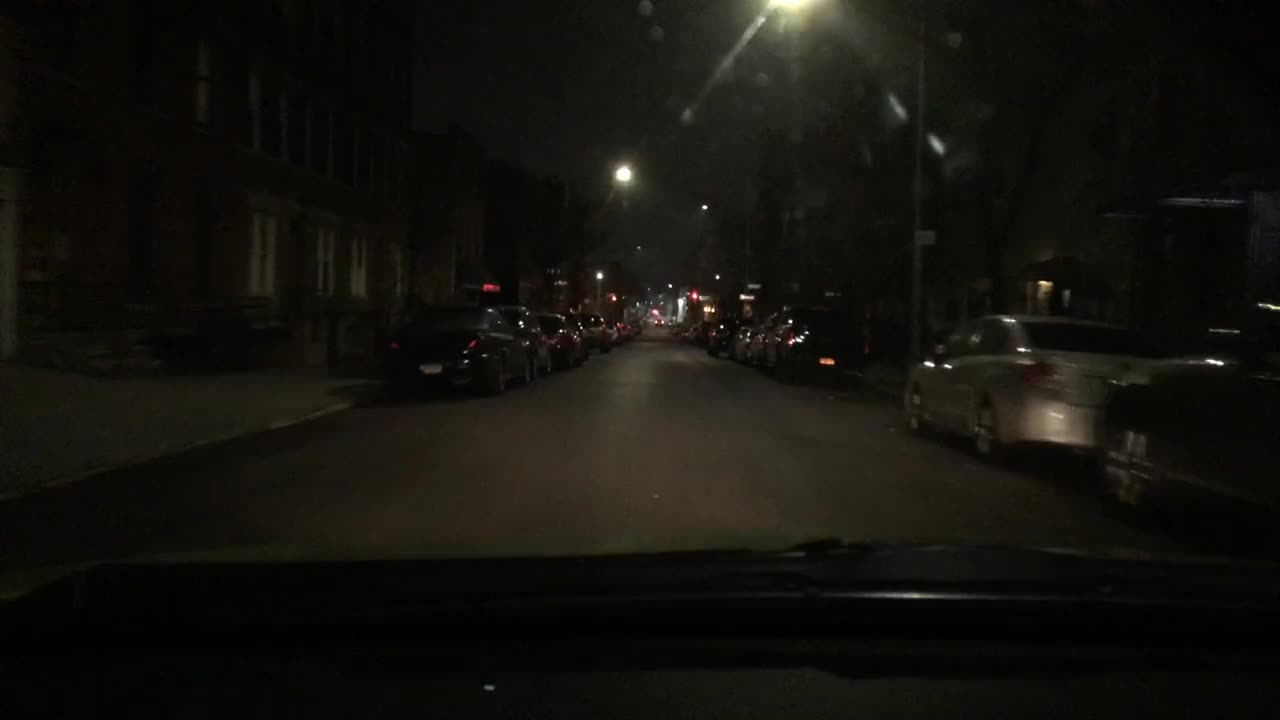car: (1096, 293, 1275, 520), (902, 311, 1157, 464), (385, 305, 531, 391), (767, 306, 869, 380), (501, 305, 549, 376), (540, 313, 578, 371), (706, 316, 751, 355), (562, 314, 588, 360), (581, 316, 615, 351), (754, 318, 769, 365), (741, 326, 754, 366), (605, 321, 621, 341), (729, 330, 741, 355), (683, 325, 697, 341), (620, 323, 631, 339), (696, 318, 703, 341), (628, 323, 646, 331), (653, 319, 667, 326)
traffic light: (690, 291, 696, 301)
traffic sign: (746, 281, 763, 291), (738, 293, 753, 299)
